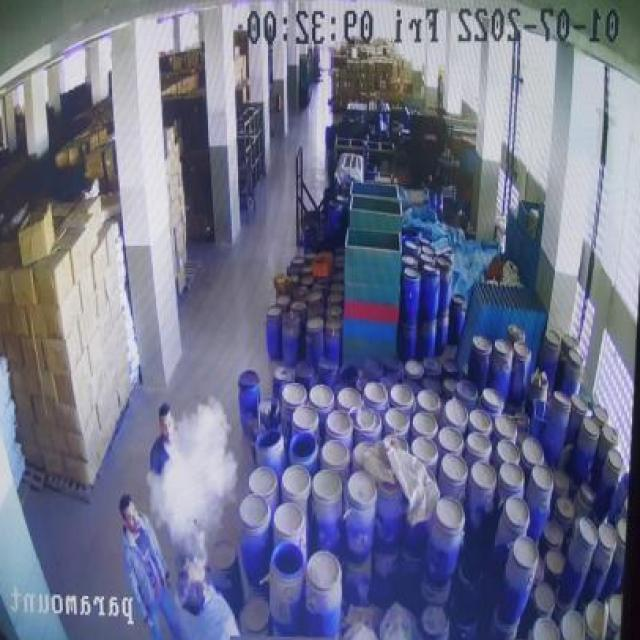fire: (144, 394, 244, 553)
